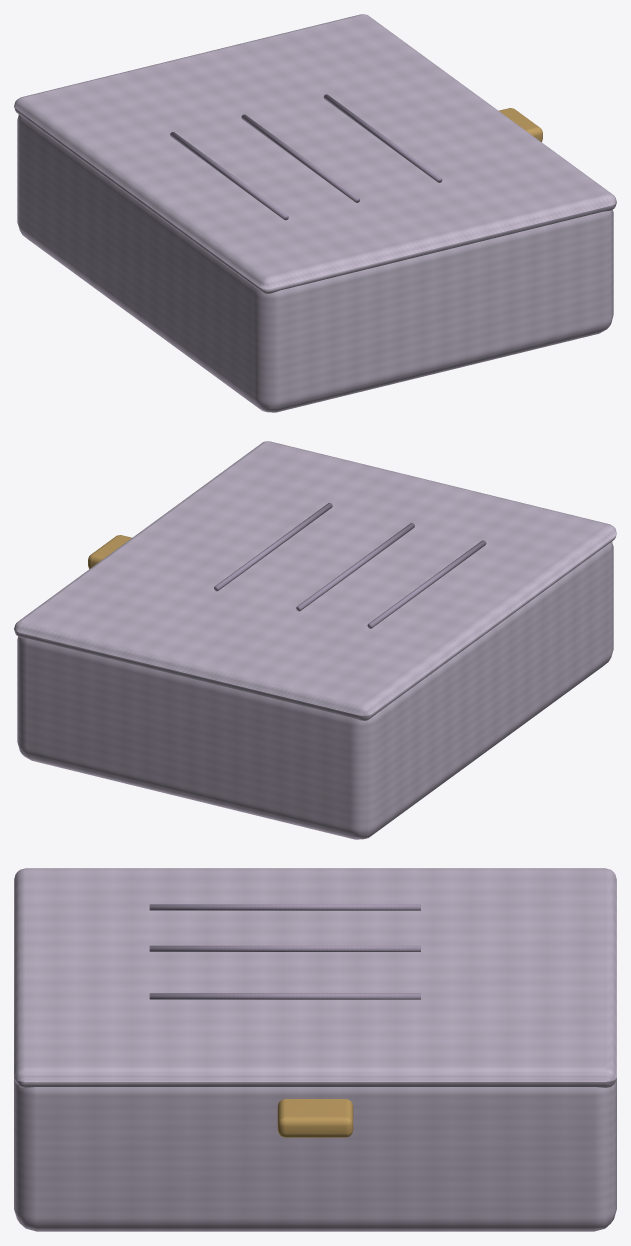
The model's file is gift-13.173a2b922ecb-CORc7EYw.glb.
The picture shows the model from 3 angles, top to bottom: view 1: azimuth 30°, elevation 25°; view 2: azimuth 150°, elevation 25°; view 3: azimuth 270°, elevation 25°; orthographic projection. The views are drawn at different scales.
Parts seen in each view (by area): view 1: PART_GIFT_13_ROOT_MAT_notebook_linen, PART_GIFT_13_ROOT_MAT_linen_pressed; view 2: PART_GIFT_13_ROOT_MAT_notebook_linen, PART_GIFT_13_ROOT_MAT_linen_pressed; view 3: PART_GIFT_13_ROOT_MAT_notebook_linen, PART_GIFT_13_ROOT_MAT_linen_pressed, Small_brass_clasp.
Part boxes in pixels (bbox=[...]): PART_GIFT_13_ROOT_MAT_notebook_linen: bbox=[14, 14, 616, 412]; PART_GIFT_13_ROOT_MAT_linen_pressed: bbox=[170, 94, 442, 220]; PART_GIFT_13_ROOT_MAT_notebook_linen: bbox=[14, 441, 616, 839]; PART_GIFT_13_ROOT_MAT_linen_pressed: bbox=[214, 503, 486, 628]; PART_GIFT_13_ROOT_MAT_notebook_linen: bbox=[14, 868, 616, 1231]; PART_GIFT_13_ROOT_MAT_linen_pressed: bbox=[149, 904, 420, 999]; Small_brass_clasp: bbox=[277, 1099, 353, 1137].
Size of the model in its own units: 0.0715 by 0.0255 by 0.08.
Materials: 4 (2 with a texture image).
